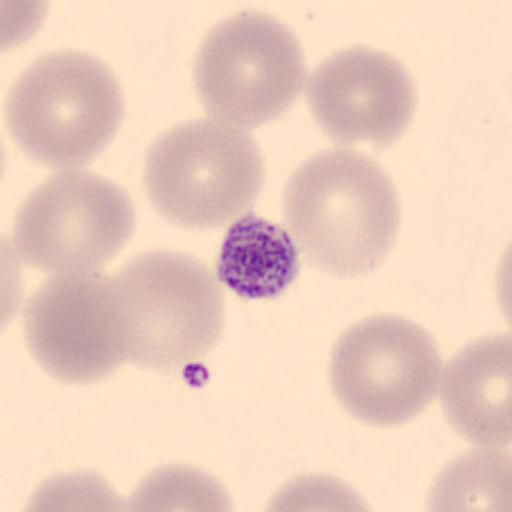Platelet: (214, 211, 304, 304)
RBC: (280, 146, 403, 283), (3, 44, 128, 176), (102, 246, 228, 376), (190, 7, 309, 133), (9, 169, 139, 284), (140, 116, 267, 232), (326, 309, 444, 430), (21, 270, 133, 386), (303, 42, 419, 151), (0, 203, 87, 333), (439, 330, 512, 450), (421, 445, 512, 512), (120, 461, 238, 512), (254, 469, 379, 512), (15, 467, 134, 512), (2, 0, 56, 54), (0, 236, 26, 336)
